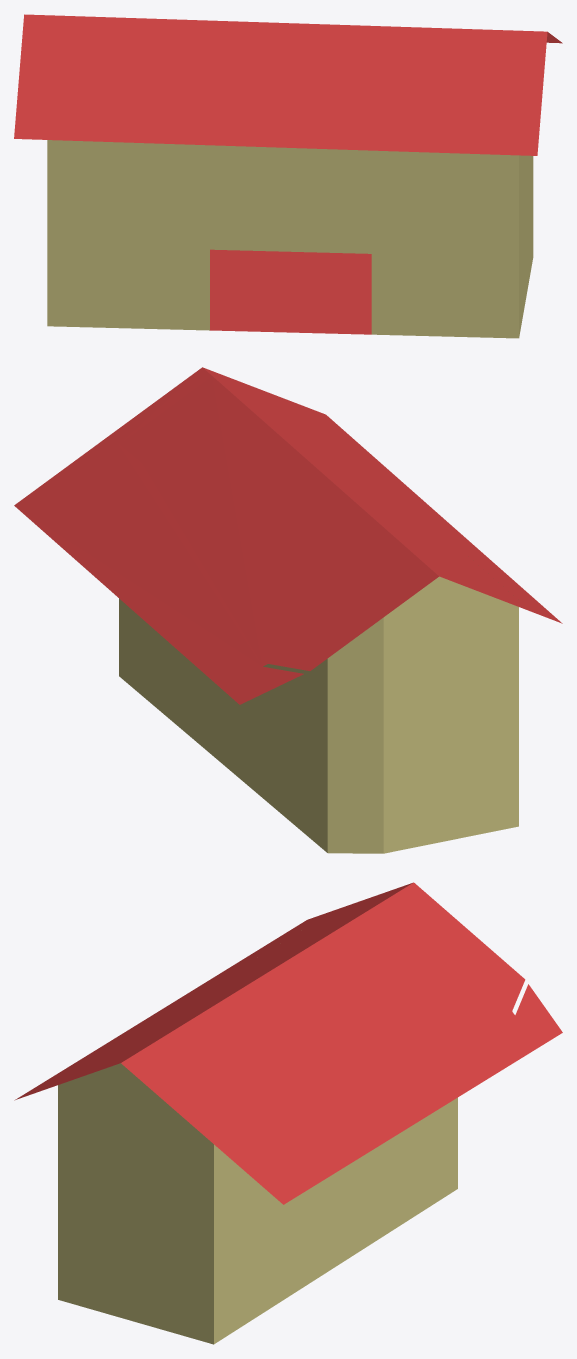
3 views of the same model, one above another, from view 1: azimuth 30°, elevation 25°; view 2: azimuth 150°, elevation 25°; view 3: azimuth 270°, elevation 25° (orthographic). The views are drawn at different scales.
Bounding box in the file's own units: 23.36 × 20.94 × 11.18.
